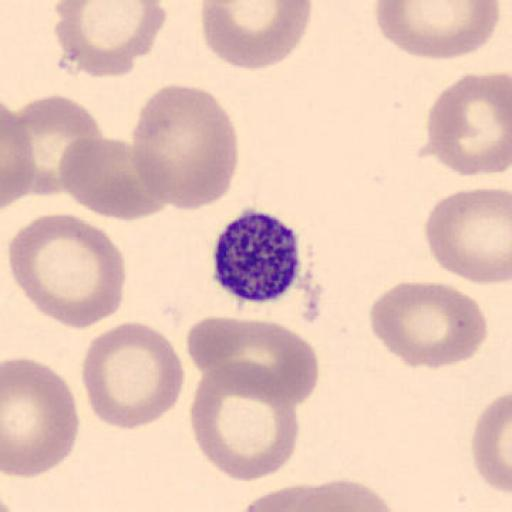Platelet: (209, 207, 309, 305)
RBC: (129, 82, 239, 212), (8, 212, 127, 331), (189, 358, 300, 483), (186, 316, 320, 409), (80, 320, 186, 432), (368, 279, 490, 371), (5, 93, 105, 202), (58, 134, 172, 221), (2, 357, 80, 479), (424, 70, 512, 178), (53, 0, 169, 79), (424, 187, 512, 286), (200, 1, 312, 71), (375, 0, 501, 61), (237, 479, 391, 512), (471, 390, 512, 500), (1, 106, 36, 211), (300, 476, 399, 512), (239, 481, 338, 512)
